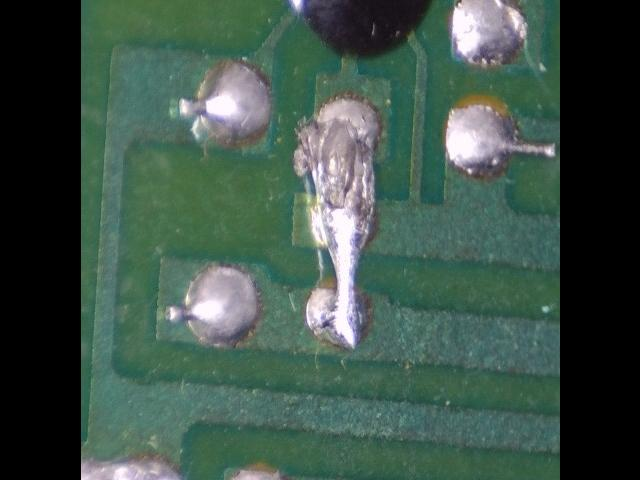Short_circuit: (295, 101, 379, 351)
